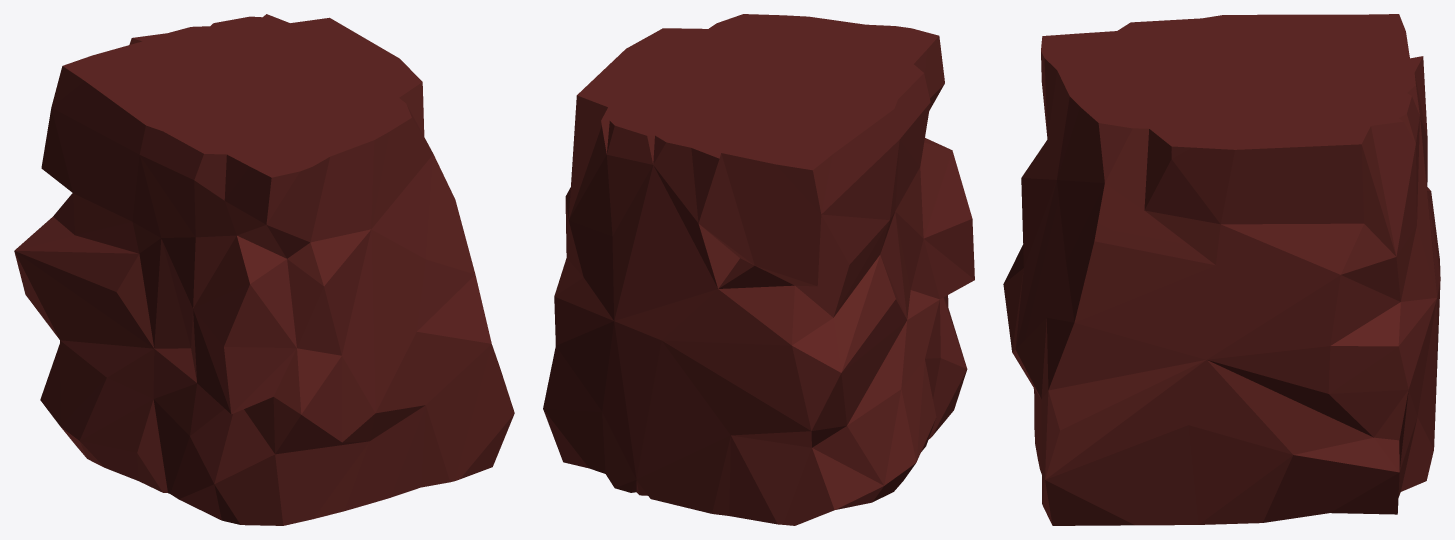
File: Rock_2_2.fbx
3 renders of one model, left to right at view 1: azimuth 30°, elevation 25°; view 2: azimuth 150°, elevation 25°; view 3: azimuth 270°, elevation 25°, orthographic. The views are drawn at different scales.
Parts seen in each view (by area): view 1: Rock_2_2; view 2: Rock_2_2; view 3: Rock_2_2.
Boxes of the visible parts, x1,y1,x2,y2 form: Rock_2_2: (14, 14, 514, 525); Rock_2_2: (543, 14, 974, 525); Rock_2_2: (1003, 14, 1440, 525).
Size of the model in its own units: 1485 by 1500 by 1597.
